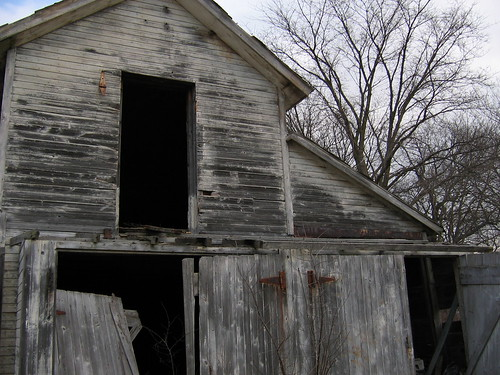building: (1, 1, 496, 370)
tree: (313, 1, 500, 218)
